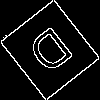D: (25, 25, 82, 83)
